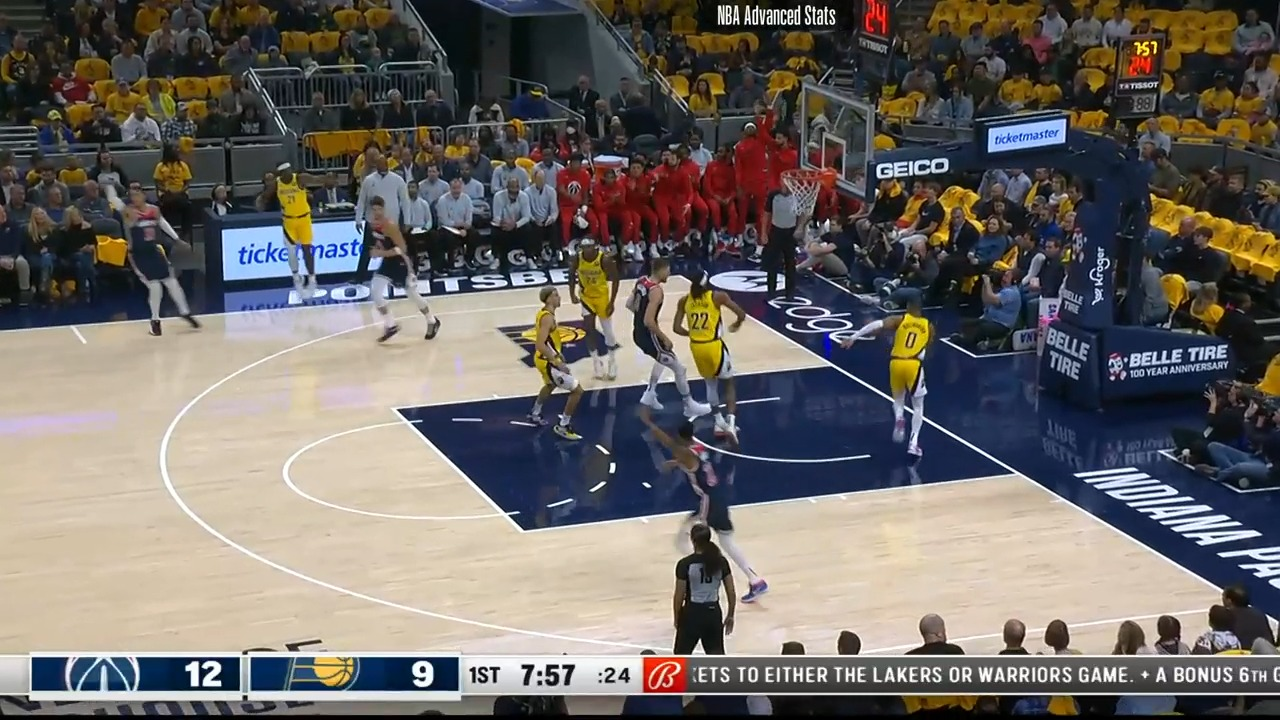net: (775, 162, 840, 222)
player: (665, 421, 772, 603), (102, 165, 204, 341), (623, 254, 712, 418), (356, 197, 442, 348), (677, 271, 747, 446), (863, 293, 933, 464), (256, 157, 331, 309), (530, 286, 595, 448), (565, 226, 622, 383)
referee: (670, 510, 739, 655), (752, 174, 803, 306)
